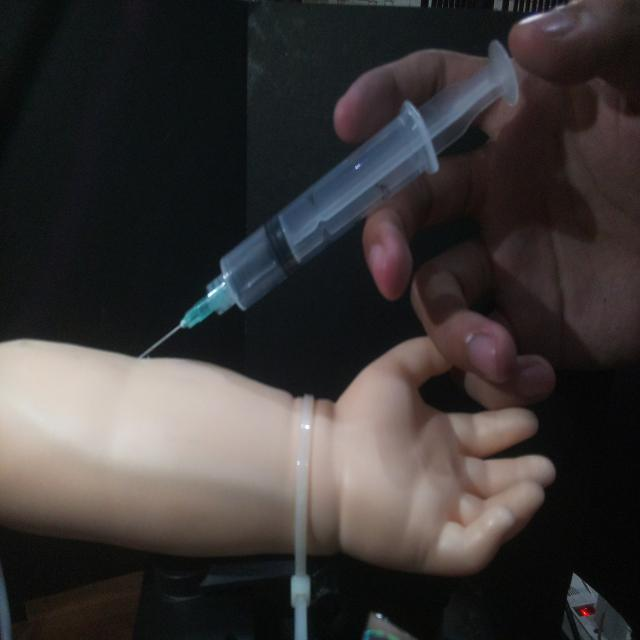29deg: (132, 36, 522, 361)
